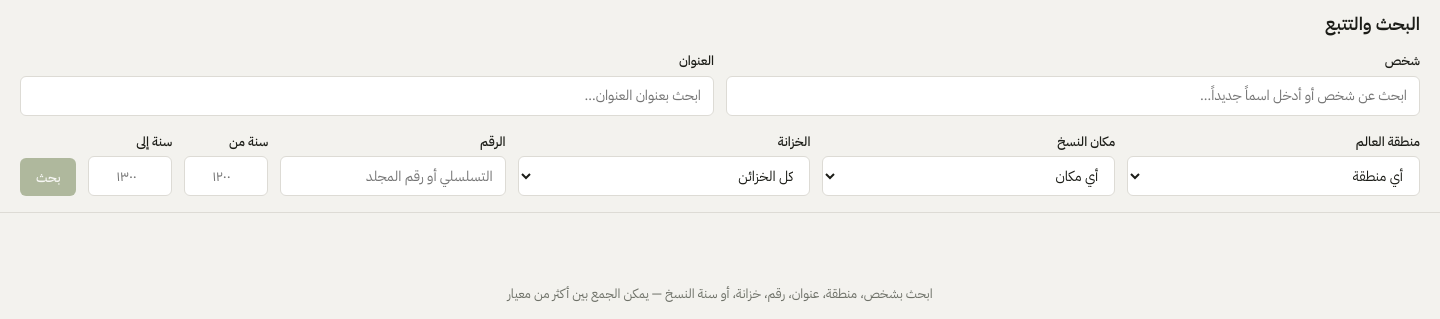
TraceScreen — unified filter panel › shows the server error message when the search fails
Type "أ" into the field labelled "العنوان".
click(367, 96); type("أ")  # box [20, 76, 714, 116]
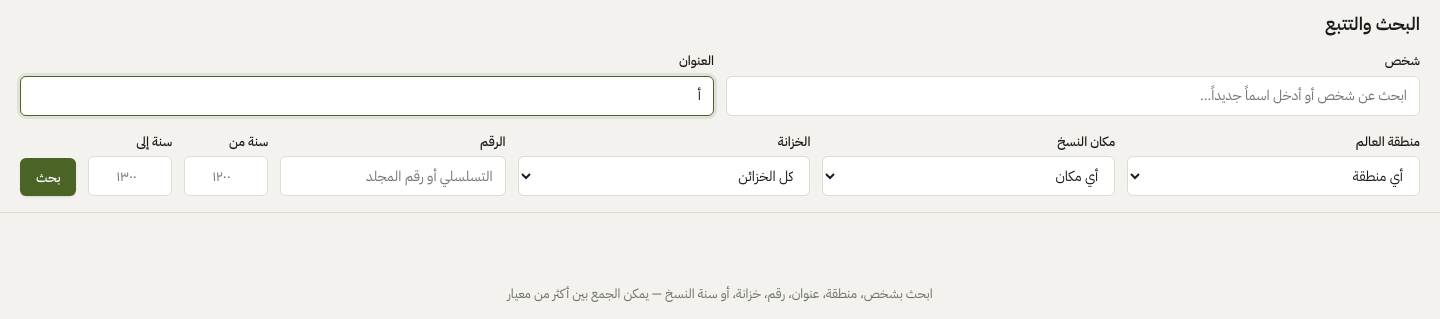
Click the button "بحث".
click(48, 177)  # box [20, 158, 76, 196]
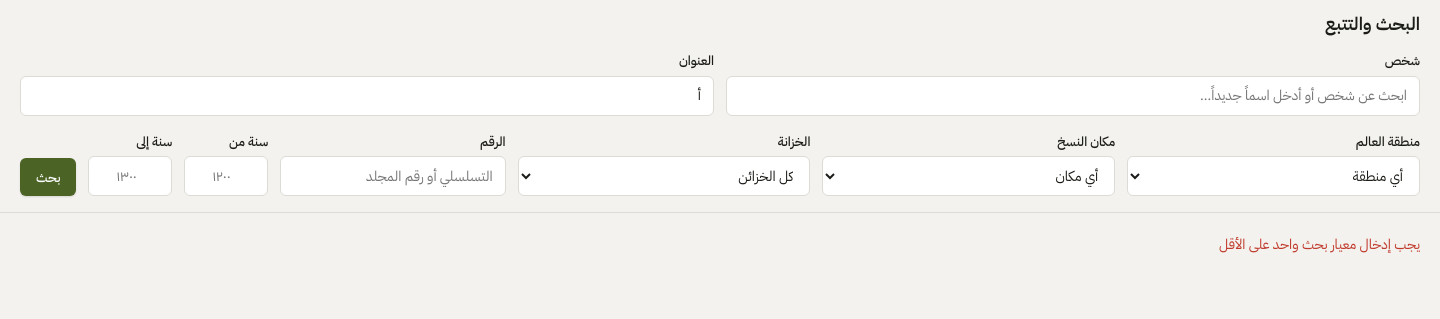
expect the text "يجب إدخال معيار بحث واحد على الأقل" is shown: met, box [1219, 234, 1420, 255]
